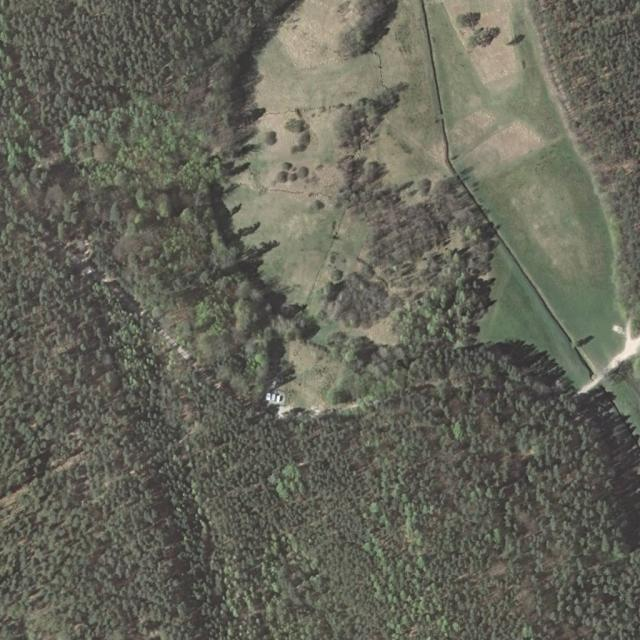greenland: (310, 154, 509, 395), (327, 72, 405, 159)
